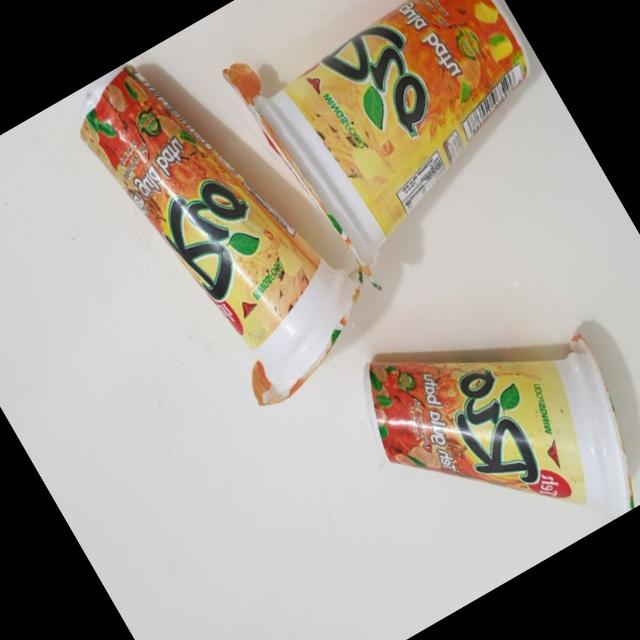GelasPlastik: (61, 15, 400, 425), (223, 0, 599, 315), (337, 260, 640, 603)
